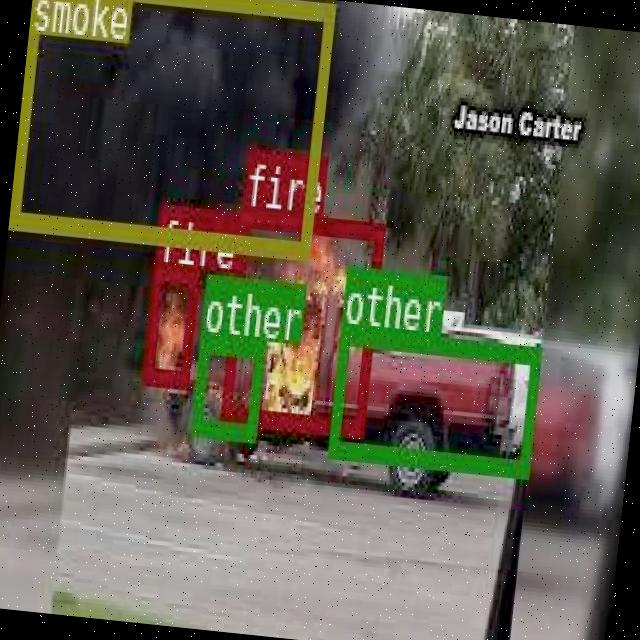fire: (219, 205, 382, 432), (141, 262, 197, 385)
smoke: (8, 0, 334, 255)
